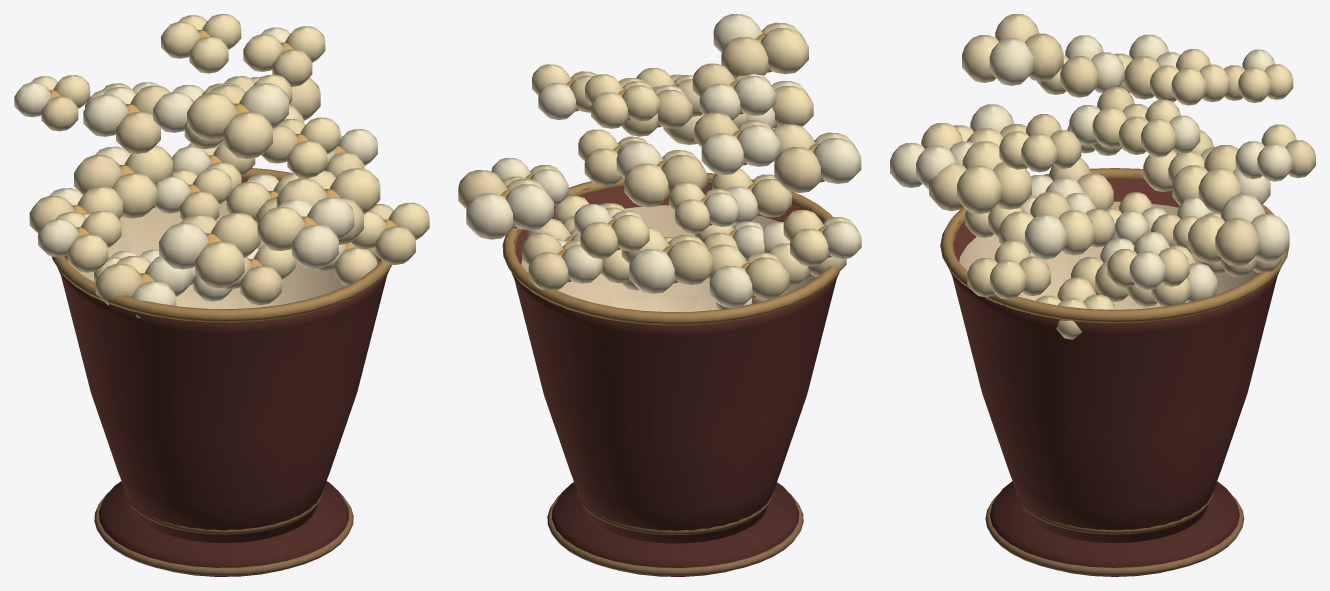
The model's file is popcorn.glb.
3 renders of one model, left to right at view 1: azimuth 30°, elevation 25°; view 2: azimuth 150°, elevation 25°; view 3: azimuth 270°, elevation 25°, orthographic.
Parts seen in each view (by area): view 1: Butter_popped_kernel_00_popped_lobe_0, Burgundy_festival_cone, Antique_brass_cone_rim, Cream_cone_lining, Butter_popped_kernel_00_toasted_heart; view 2: Butter_popped_kernel_00_popped_lobe_0, Burgundy_festival_cone, Antique_brass_cone_rim, Cream_cone_lining, Butter_popped_kernel_00_toasted_heart; view 3: Butter_popped_kernel_00_popped_lobe_0, Burgundy_festival_cone, Antique_brass_cone_rim, Cream_cone_lining.
Boxes of the visible parts, x1=… form: Butter_popped_kernel_00_popped_lobe_0: x1=14, y1=14, x2=429, y2=318; Burgundy_festival_cone: x1=57, y1=177, x2=389, y2=576; Antique_brass_cone_rim: x1=52, y1=168, x2=392, y2=576; Cream_cone_lining: x1=68, y1=201, x2=379, y2=308; Butter_popped_kernel_00_toasted_heart: x1=50, y1=30, x2=396, y2=283; Butter_popped_kernel_00_popped_lobe_0: x1=458, y1=14, x2=861, y2=309; Burgundy_festival_cone: x1=511, y1=178, x2=839, y2=576; Antique_brass_cone_rim: x1=502, y1=173, x2=840, y2=576; Cream_cone_lining: x1=521, y1=205, x2=816, y2=311; Butter_popped_kernel_00_toasted_heart: x1=501, y1=34, x2=831, y2=298; Butter_popped_kernel_00_popped_lobe_0: x1=890, y1=14, x2=1315, y2=339; Burgundy_festival_cone: x1=949, y1=174, x2=1280, y2=576; Antique_brass_cone_rim: x1=940, y1=168, x2=1288, y2=576; Cream_cone_lining: x1=959, y1=201, x2=1259, y2=309.
Size of the model in its own units: 0.6023 by 0.7899 by 0.6317.
